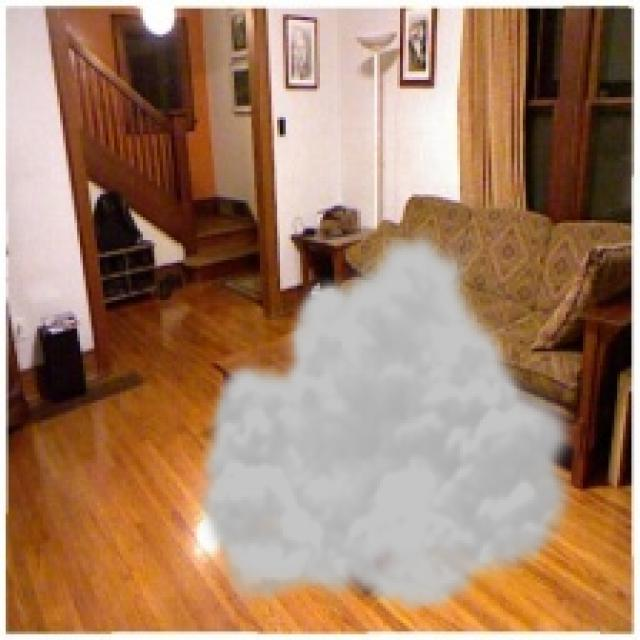smoke: (191, 223, 586, 617)
